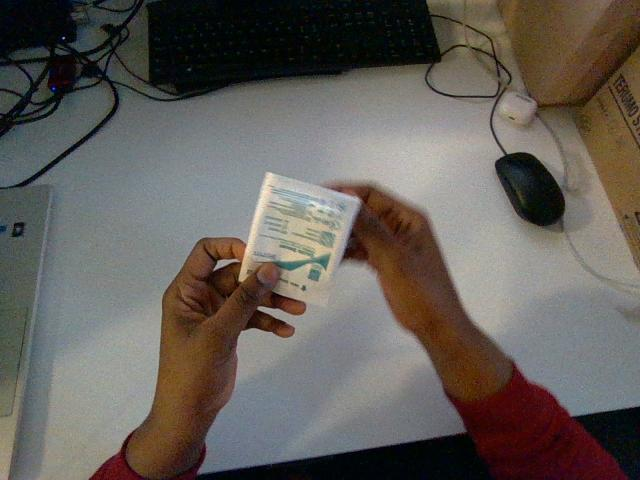gauze: (239, 173, 360, 305)
